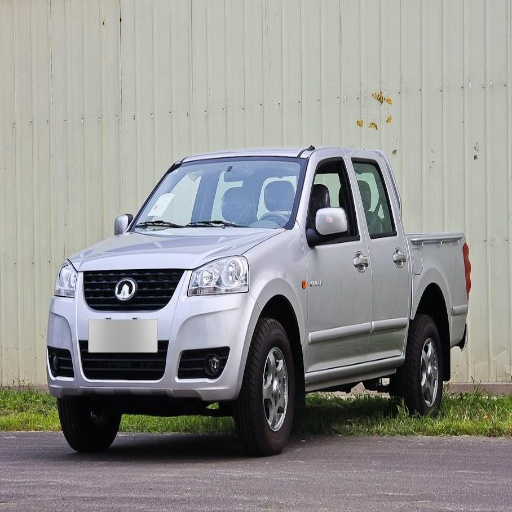back_left_door: (349, 156, 410, 357)
front_bumper: (46, 268, 259, 397)
front_glass: (124, 162, 306, 230)
front_left_door: (306, 155, 369, 368)
trunk: (412, 235, 468, 325)
